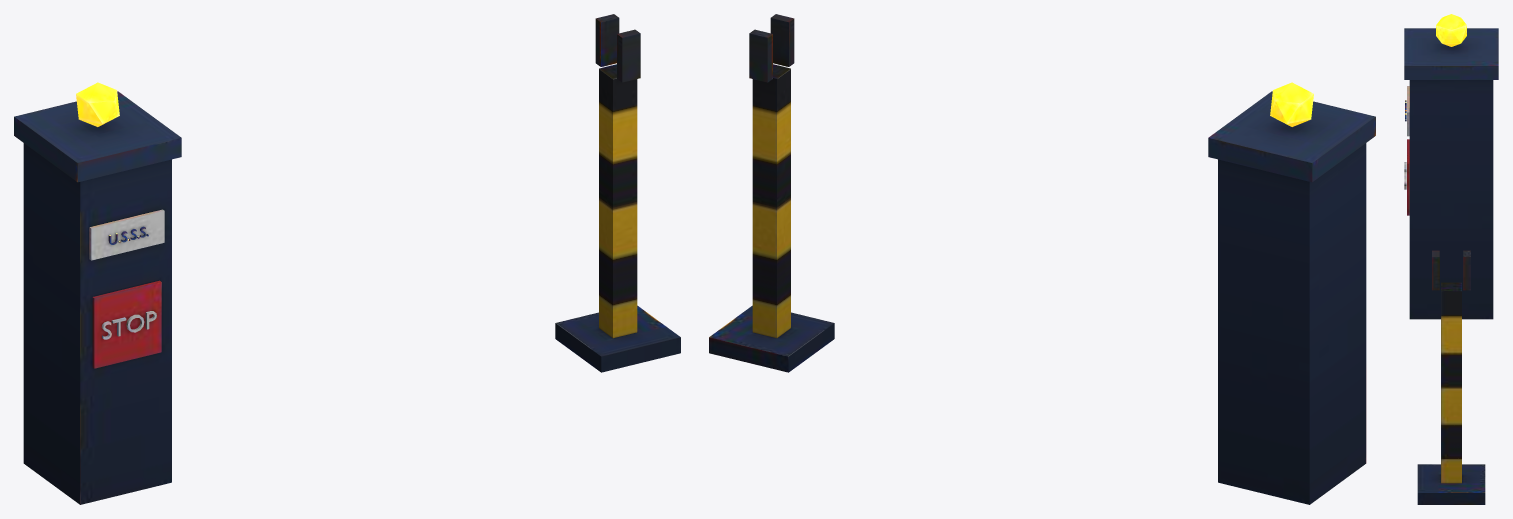
The model's file is barrera_control.glb.
3 views of the same model, side by side, from view 1: azimuth 30°, elevation 25°; view 2: azimuth 150°, elevation 25°; view 3: azimuth 270°, elevation 25° (orthographic). The views are drawn at different scales.
Parts seen in each view (by area): view 1: barrera_control; view 2: barrera_control; view 3: barrera_control.
Part boxes in pixels (bbox=[...]): barrera_control: bbox=[14, 14, 680, 504]; barrera_control: bbox=[709, 14, 1375, 504]; barrera_control: bbox=[1404, 14, 1498, 504].
Size of the model in its own units: 2 by 1.22 by 0.36.
Materials: 1 (1 with a texture image).
